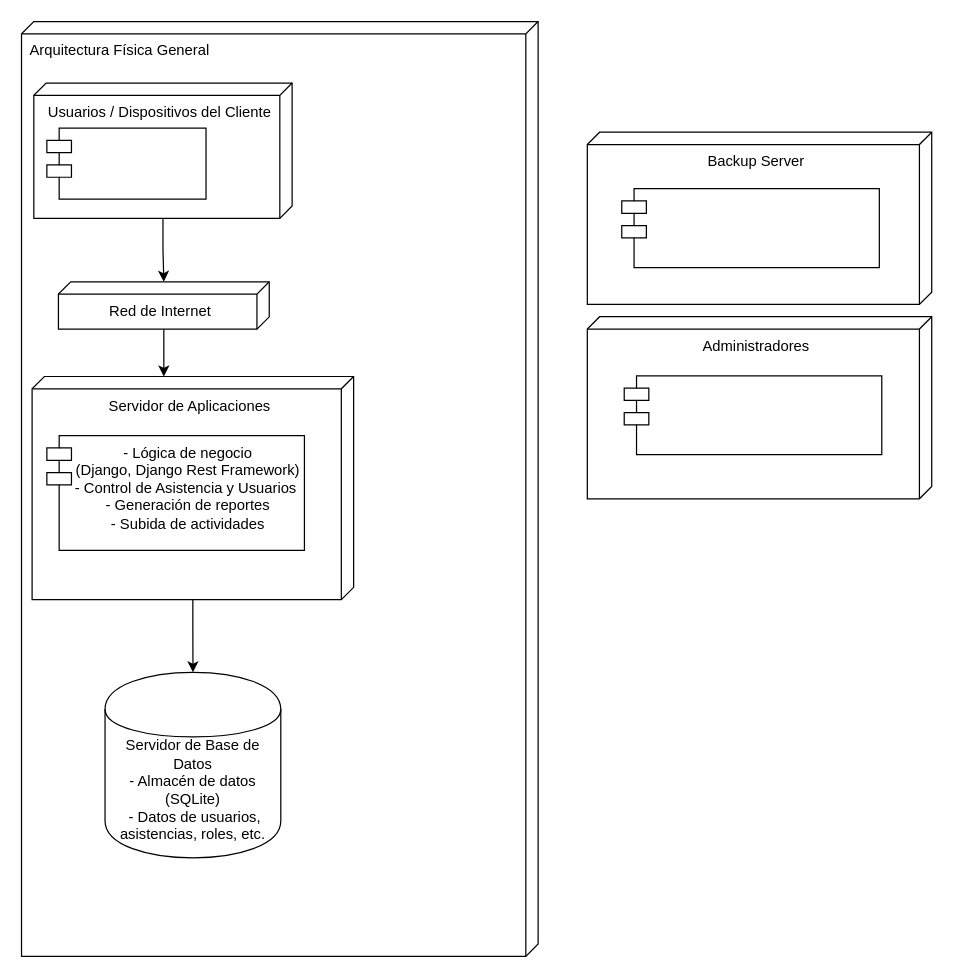
Image size: 953x978. Some labels were removed from this diagram. Each missing label, with the centre of its shape:
- Configuración del sistema de asistencia - Acceso a reportes: point (752, 415)
- Respaldos automáticos - Datos almacenados en servidores de respaldo: point (750, 227)
-Tablet/Móvil - PC (Web App) -Otros: point (126, 163)
